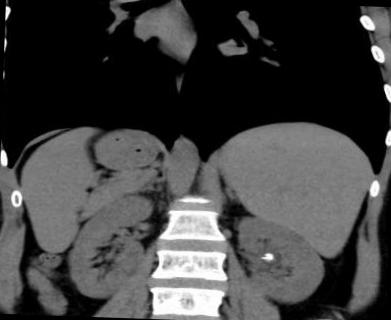Tas_Var: (260, 251, 274, 261)
